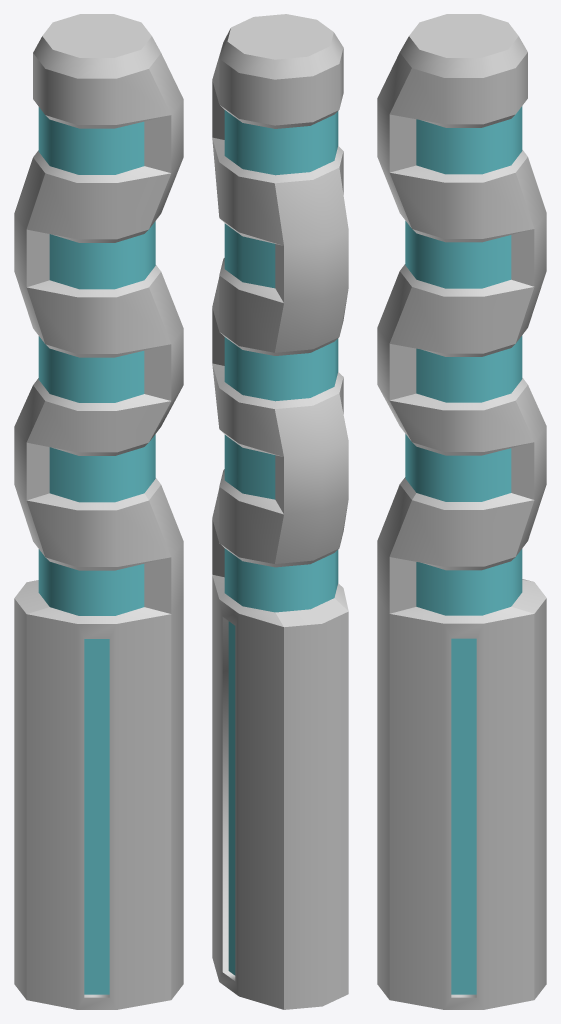
The model's file is BuildingA.fbx.
The picture shows the model from 3 angles, left to right: view 1: azimuth 90°, elevation 25°; view 2: azimuth 210°, elevation 25°; view 3: azimuth 270°, elevation 25°; orthographic projection.
Parts seen in each view (by area): view 1: Cylinder; view 2: Cylinder; view 3: Cylinder.
Part boxes in pixels (left/top/right/bottom): Cylinder: left=14, top=14, right=183, bottom=1009; Cylinder: left=212, top=14, right=348, bottom=1009; Cylinder: left=377, top=14, right=546, bottom=1009.
Size of the model in its own units: 1466 by 12575 by 2036.
